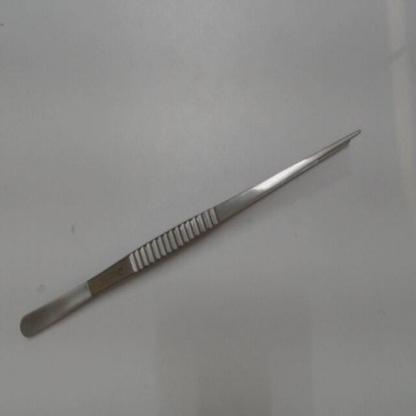DeBakey Dissector: (14, 97, 374, 367)
